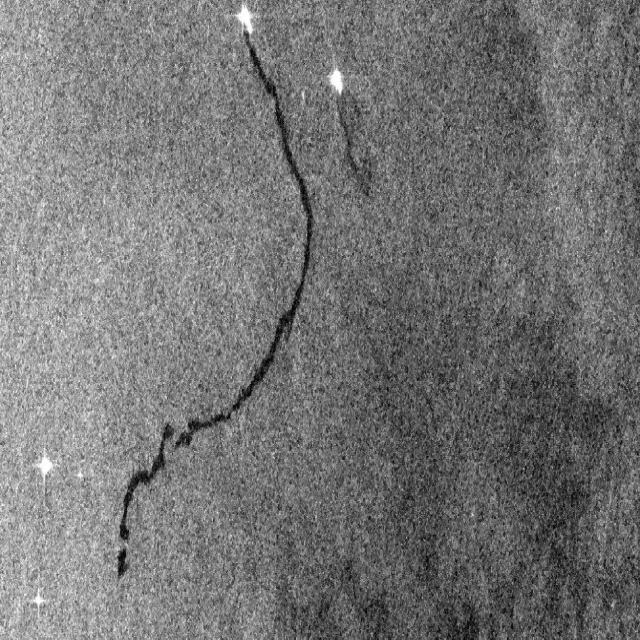oil-spill: (116, 364, 276, 586), (241, 34, 316, 354), (335, 98, 379, 198)
ship: (30, 444, 58, 493), (323, 60, 351, 97), (232, 6, 260, 34), (30, 584, 48, 624)
